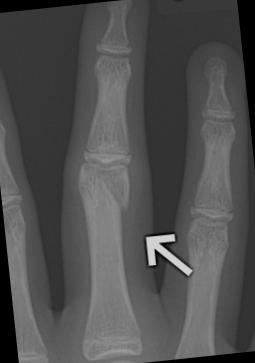fracture: (98, 179, 128, 217)
